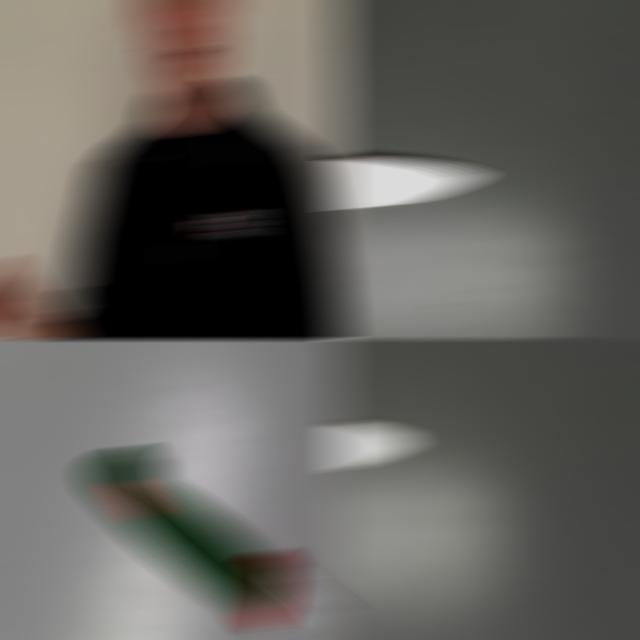Knife: (86, 444, 348, 640), (330, 155, 479, 208)
